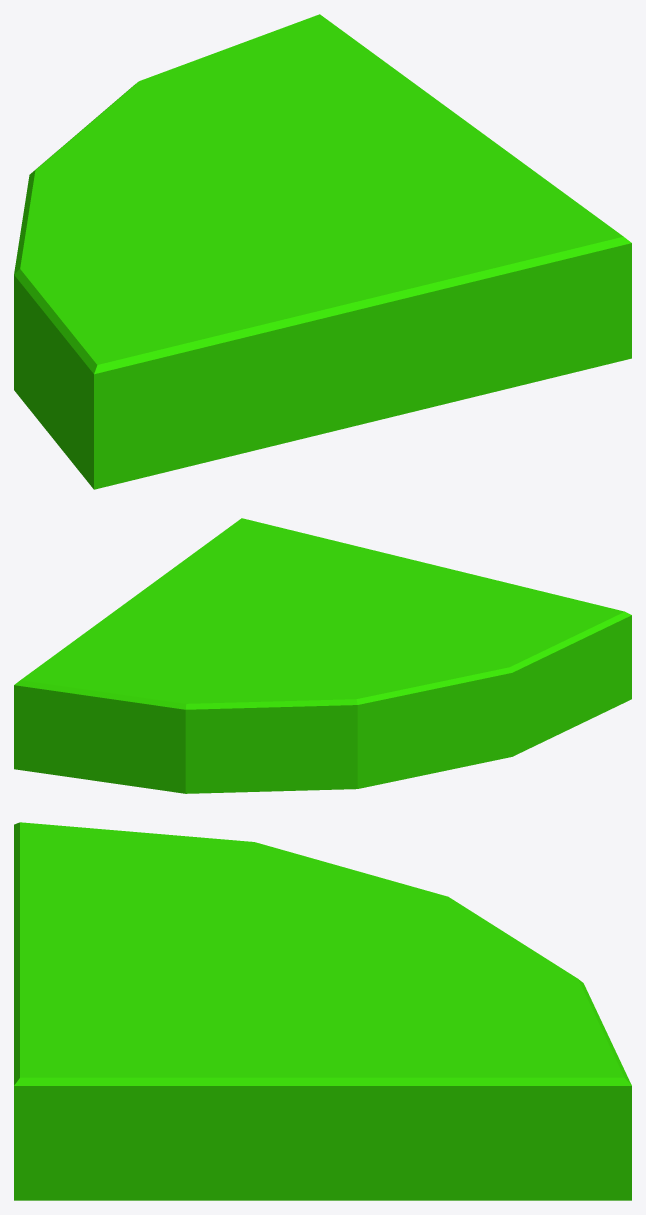
Rendered from round_5x1_02.fbx.
3 views of the same model, one above another, from view 1: azimuth 30°, elevation 25°; view 2: azimuth 150°, elevation 25°; view 3: azimuth 270°, elevation 25° (orthographic). The views are drawn at different scales.
Parts seen in each view (by area): view 1: round_5x1_02; view 2: round_5x1_02; view 3: round_5x1_02.
Boxes of the visible parts, bbox=[...] form: round_5x1_02: bbox=[14, 14, 631, 489]; round_5x1_02: bbox=[14, 518, 631, 793]; round_5x1_02: bbox=[14, 822, 631, 1200].
Bounding box in the file's own units: 512 × 110 × 512.
